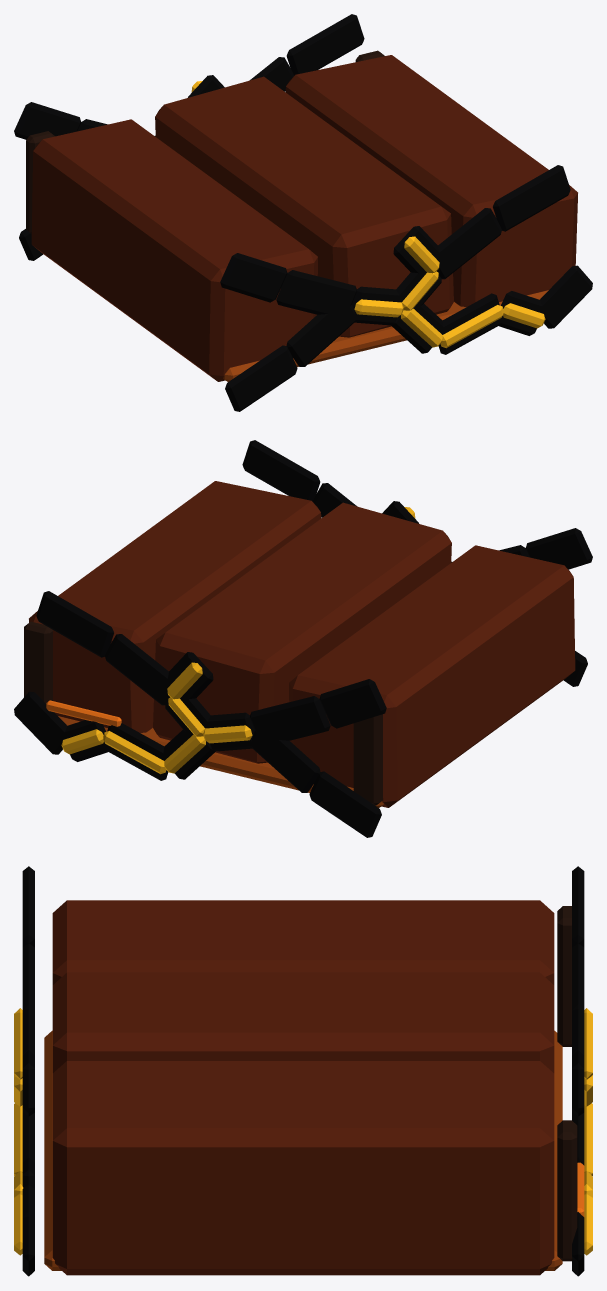
File: falling_ruin_broken.obj
3 views of the same model, one above another, from view 1: azimuth 30°, elevation 25°; view 2: azimuth 150°, elevation 25°; view 3: azimuth 270°, elevation 25° (orthographic). The views are drawn at different scales.
Visible parts, largest first — view 1: FallingRuin_Broken; view 2: FallingRuin_Broken; view 3: FallingRuin_Broken.
Part boxes in pixels (x1,y1,x2,y2): FallingRuin_Broken: (14,14,592,411); FallingRuin_Broken: (14,440,592,837); FallingRuin_Broken: (14,866,592,1276).
Size of the model in its own units: 1.01 by 0.437 by 1.02.
1 material, 1 textured.
